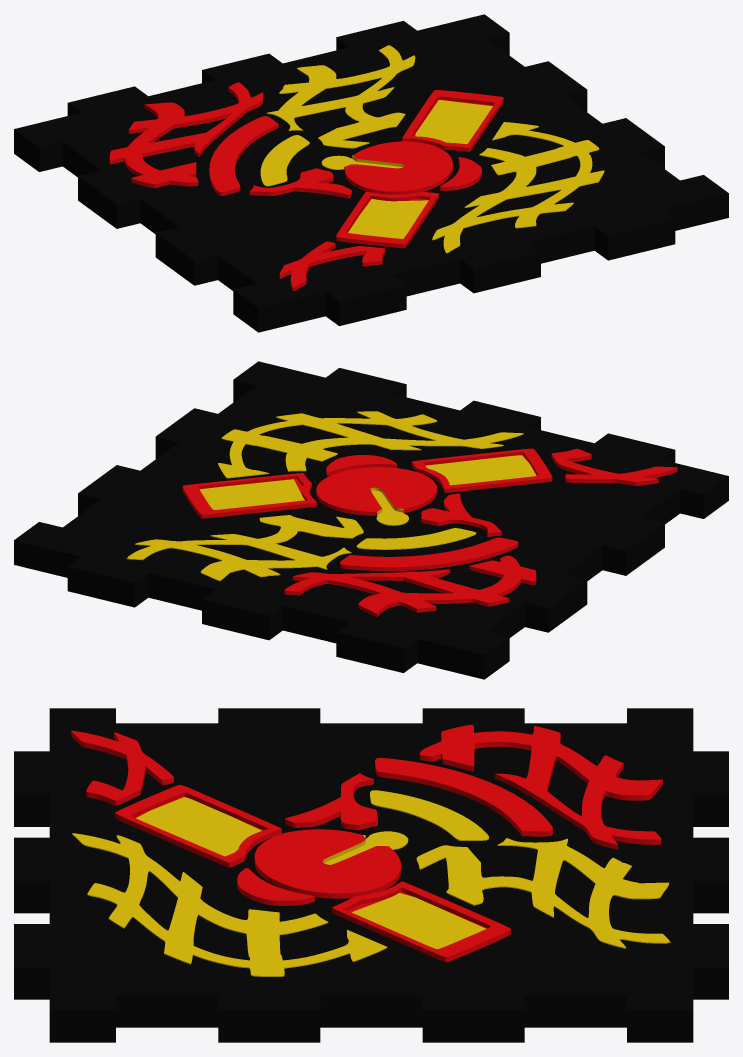
3 views of the same model, one above another, from view 1: azimuth 30°, elevation 25°; view 2: azimuth 150°, elevation 25°; view 3: azimuth 270°, elevation 25° (orthographic). The views are drawn at different scales.
Parts seen in each view (by area): view 1: te6; view 2: te6; view 3: te6.
Boxes of the visible parts, box(x1,y1,x2,y2) form: te6: box(14, 14, 728, 332); te6: box(14, 361, 728, 679); te6: box(14, 708, 728, 1042).
Size of the model in its own units: 100 by 5.8 by 100.
